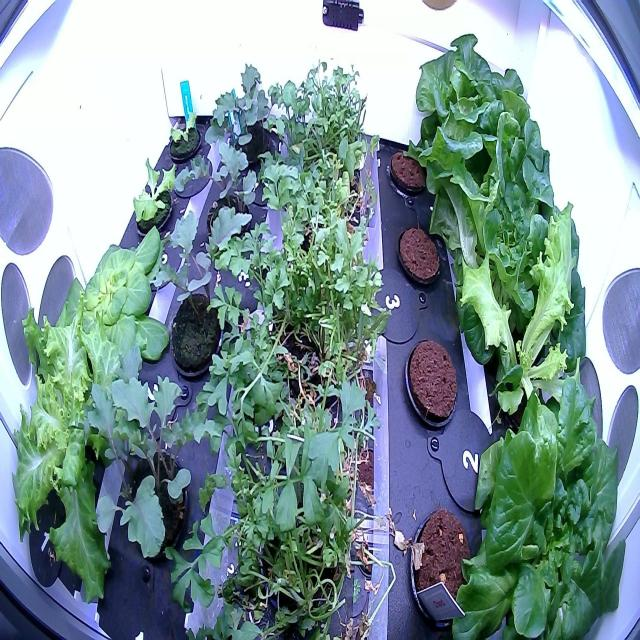pod: (404, 497, 480, 632), (400, 336, 461, 433), (394, 221, 444, 296), (387, 142, 435, 200)
young: (49, 221, 171, 376)
